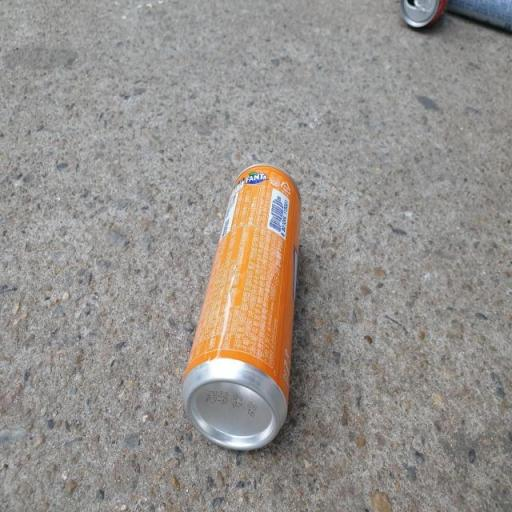metal: (171, 119, 383, 512)
